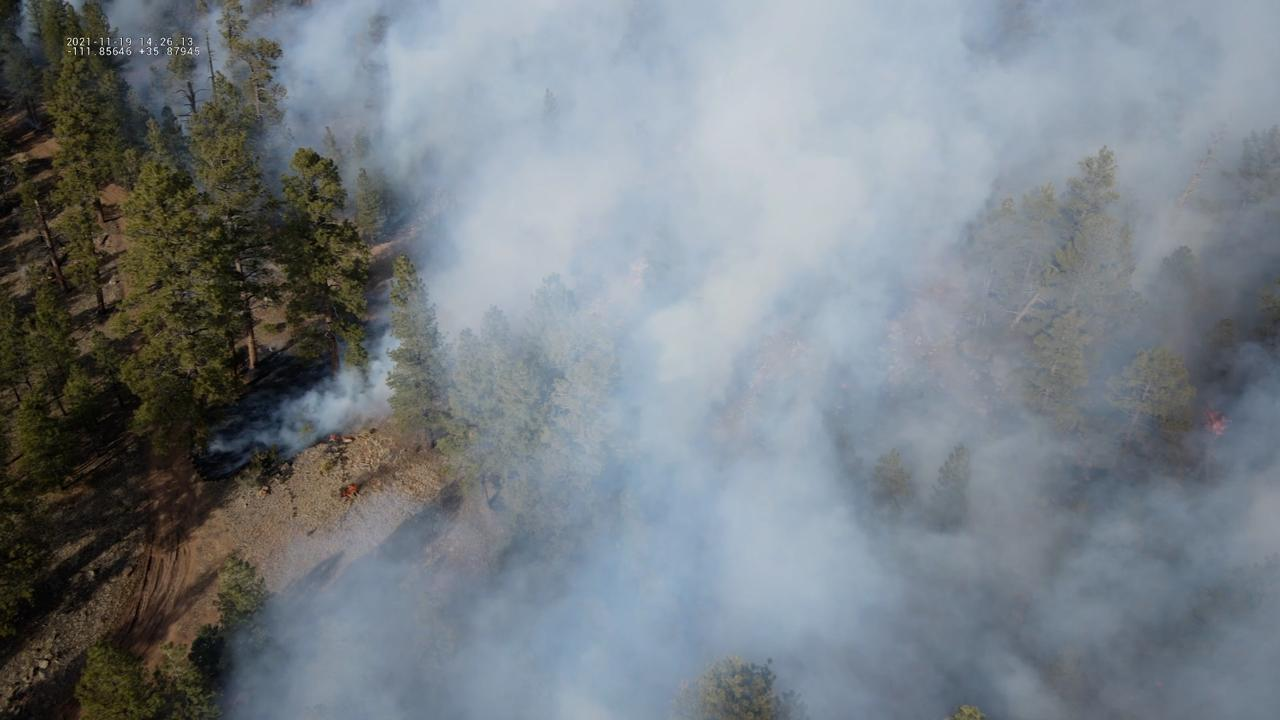fire: (1198, 403, 1233, 438), (340, 482, 357, 498), (327, 433, 337, 444)
smoke: (0, 0, 1280, 720)
